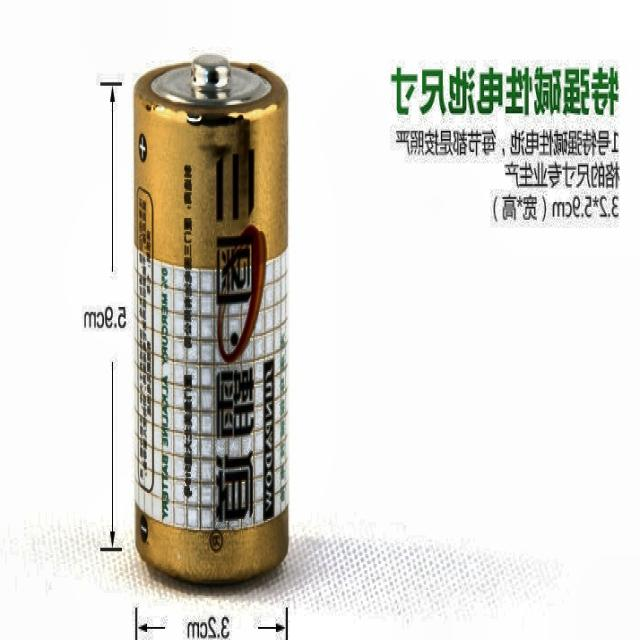Non-Valuable Waste - Batteries: (134, 55, 288, 579)
